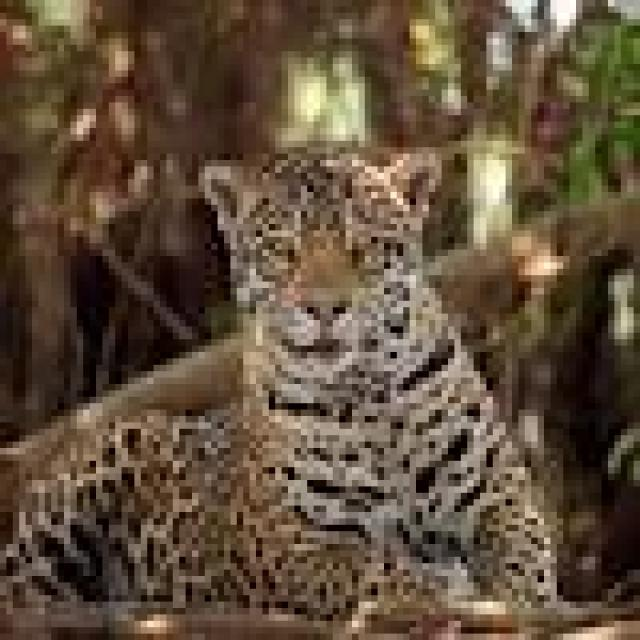Jaguar: (19, 147, 570, 627)
